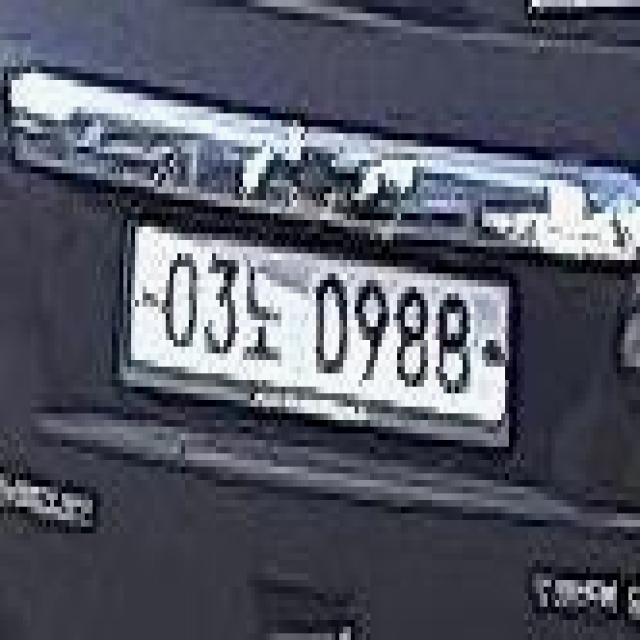illegal_plate: (122, 211, 520, 458)
